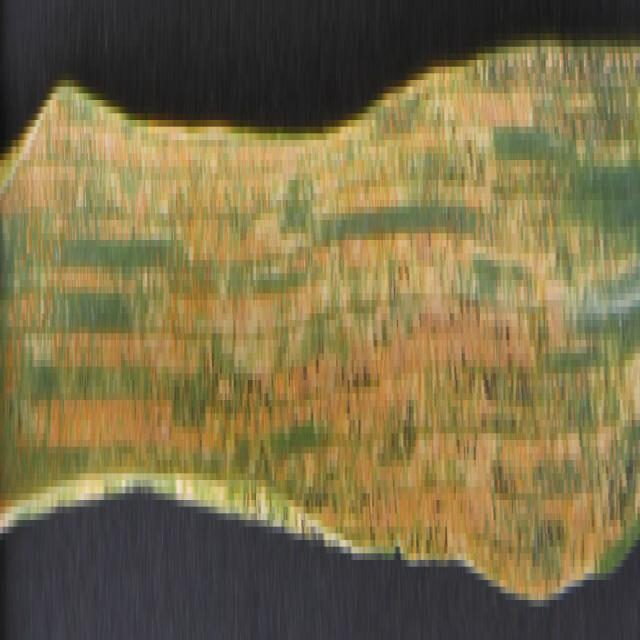leaf rust: (1, 33, 637, 587)
